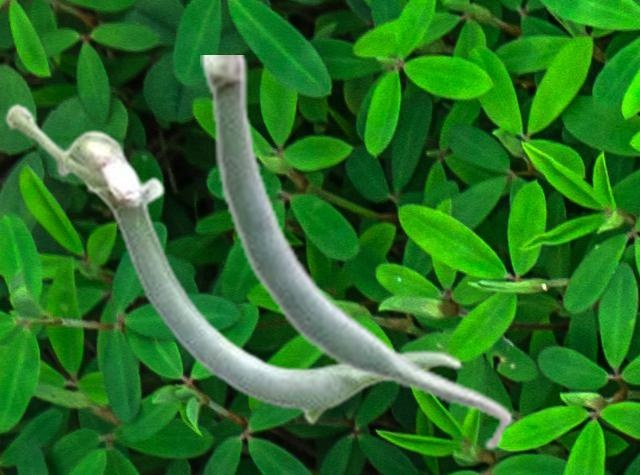french_bean: (4, 102, 462, 424), (200, 55, 513, 452)
